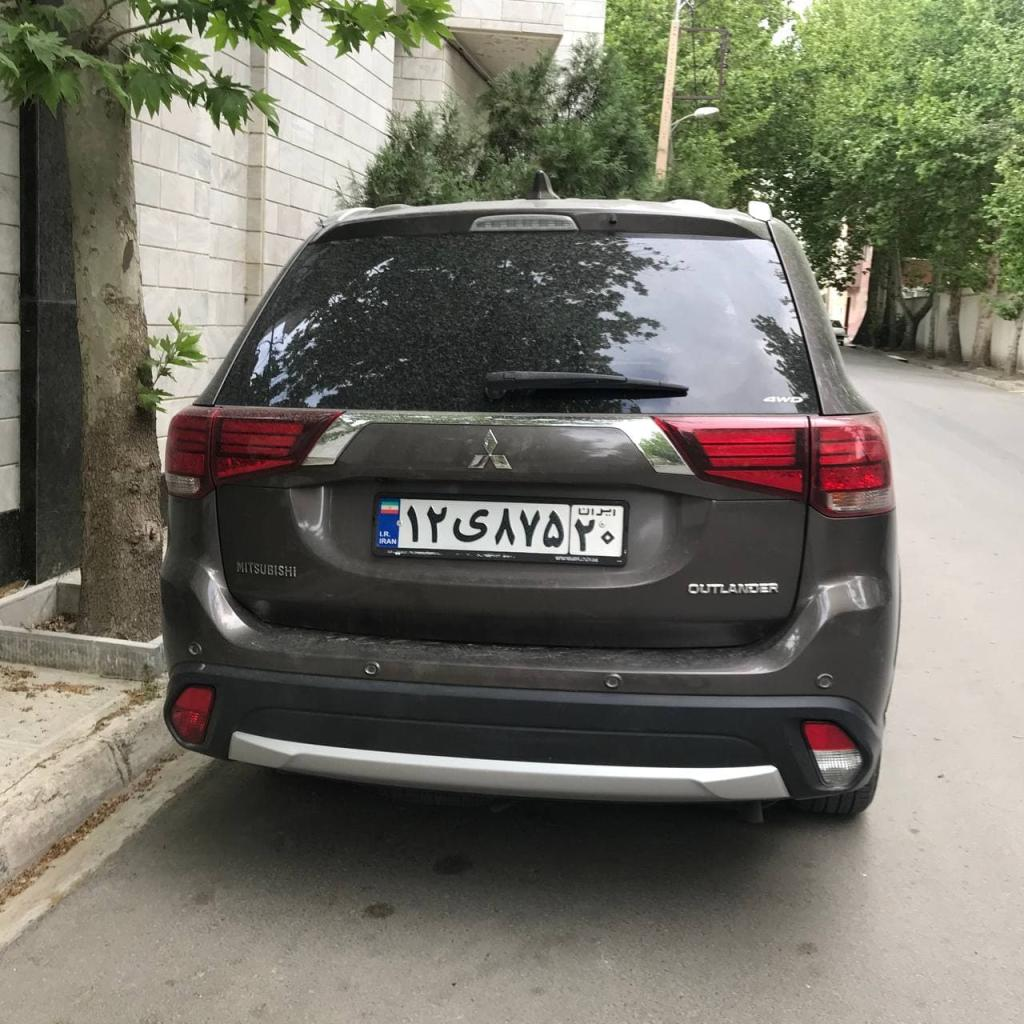Plates: (376, 499, 624, 558)
